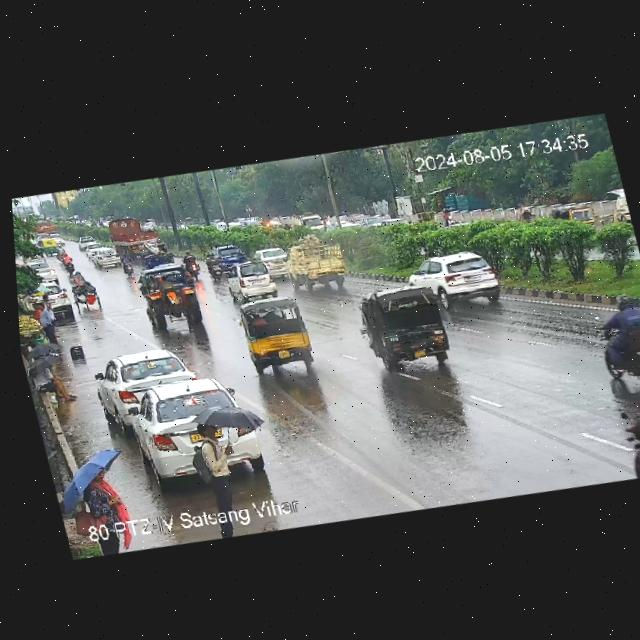bus: (281, 210, 335, 240)
car: (107, 367, 270, 502), (357, 280, 457, 373), (94, 342, 199, 422), (404, 243, 508, 313), (238, 291, 320, 375), (220, 257, 281, 302), (549, 195, 617, 235), (138, 261, 196, 297), (66, 267, 104, 313), (137, 241, 184, 274), (89, 244, 127, 271), (74, 232, 104, 253), (44, 238, 60, 255), (49, 231, 65, 246)
motorcycle: (593, 292, 640, 391), (618, 385, 640, 478), (53, 240, 78, 273), (179, 251, 204, 281), (204, 252, 229, 280), (438, 208, 459, 227)
person: (179, 410, 246, 515), (72, 464, 127, 531), (27, 350, 77, 406), (31, 299, 63, 348)
truck: (136, 262, 204, 339), (285, 240, 357, 297), (109, 212, 165, 253), (33, 218, 57, 237)
